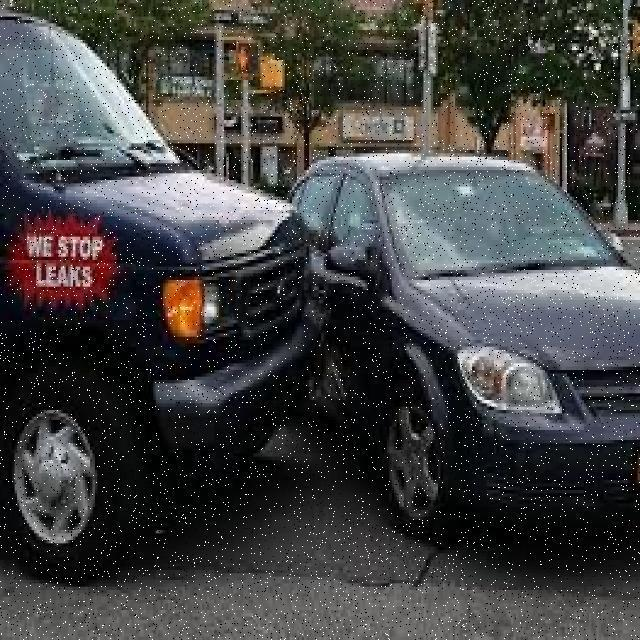accident: (111, 101, 551, 559)
